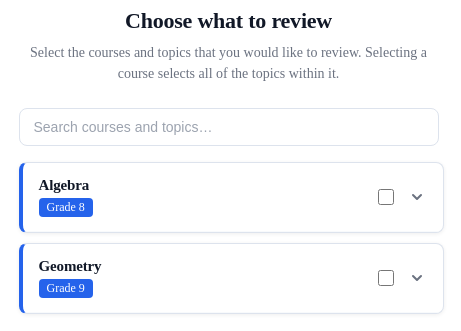
CourseList › shows an empty-state message when nothing matches
The image size is (461, 331).
Expected: the text "Algebra" is shown, left=38, top=177, right=93, bottom=194
Step 1. Type "zzz" into the search field → (228, 127), box left=18, top=108, right=438, bottom=146
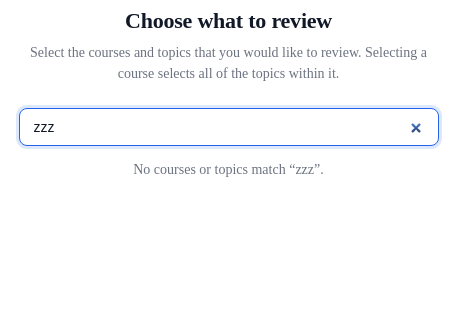
Now the text "No courses or topics match “zzz”." is shown, box left=133, top=162, right=324, bottom=177
Now the text "Algebra" is gone
